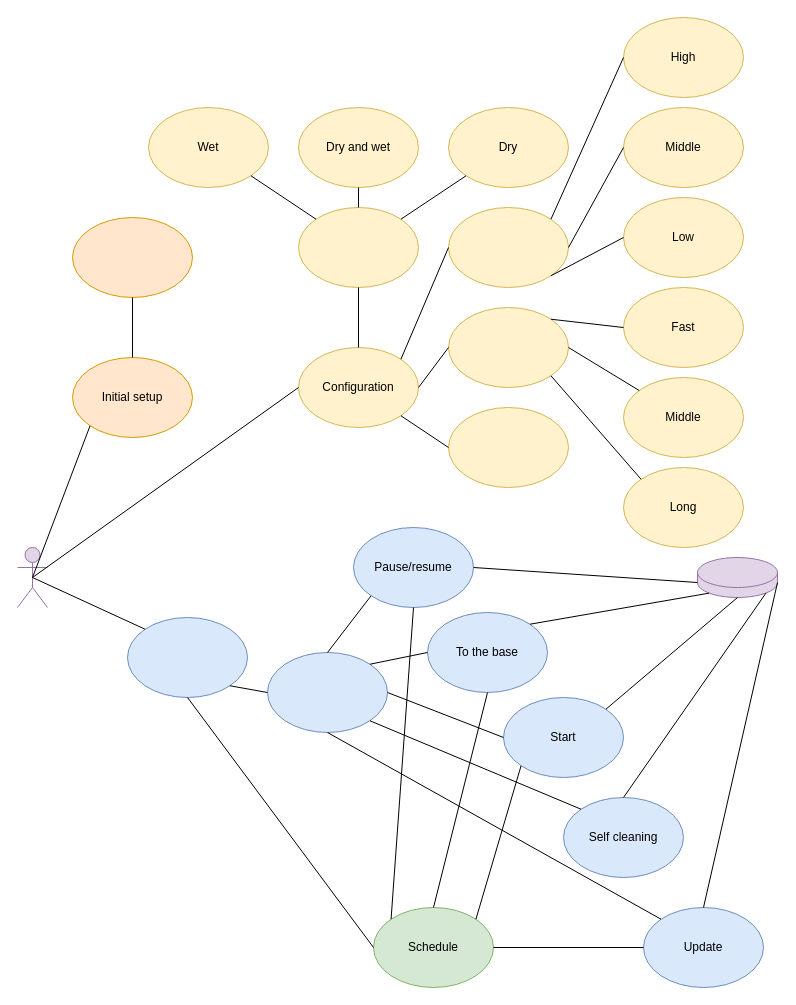
This 796x1005 diagram has some shape labels left out. The centre of each missing label's shape, as x and y in pixels:
Add cleaner: (x=132, y=257)
Cleaning: (x=358, y=247)
Conrtol: (x=187, y=657)
Manual control: (x=327, y=692)
Mode: (x=508, y=347)
Power: (x=508, y=247)
Reset: (x=508, y=447)
Robot cleaner: (x=737, y=577)
User: (x=32, y=577)
